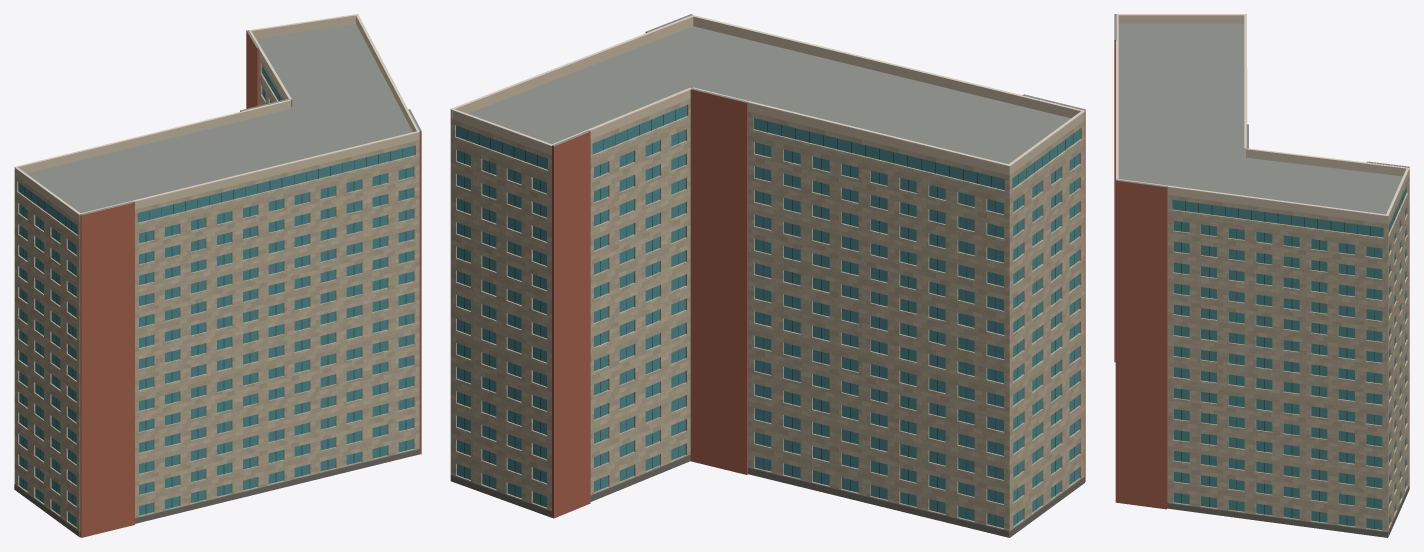
3 views of the same model, side by side, from view 1: azimuth 30°, elevation 25°; view 2: azimuth 150°, elevation 25°; view 3: azimuth 270°, elevation 25° (orthographic). The views are drawn at different scales.
Parts seen in each view (by area): view 1: lakeHall__wall, lakeHall__glass, lakeHall__roof, lakeHall__wall2, lakeHall__parapet, lakeHall__frame, lakeHall__trim, lakeHall__base; view 2: lakeHall__wall, lakeHall__glass, lakeHall__wall2, lakeHall__roof, lakeHall__parapet, lakeHall__frame, lakeHall__base, lakeHall__trim; view 3: lakeHall__wall, lakeHall__roof, lakeHall__glass, lakeHall__wall2, lakeHall__parapet, lakeHall__trim, lakeHall__frame, lakeHall__base.
Part boxes in pixels (x1=…): lakeHall__wall: x1=14, y1=57, x2=419, y2=536; lakeHall__glass: x1=18, y1=66, x2=414, y2=526; lakeHall__roof: x1=26, y1=24, x2=421, y2=214; lakeHall__wall2: x1=80, y1=30, x2=421, y2=537; lakeHall__parapet: x1=14, y1=15, x2=419, y2=222; lakeHall__frame: x1=23, y1=77, x2=406, y2=524; lakeHall__trim: x1=14, y1=14, x2=419, y2=215; lakeHall__base: x1=14, y1=449, x2=419, y2=536; lakeHall__wall: x1=450, y1=99, x2=1084, y2=537; lakeHall__glass: x1=456, y1=105, x2=1080, y2=528; lakeHall__wall2: x1=552, y1=26, x2=1085, y2=518; lakeHall__roof: x1=468, y1=14, x2=1084, y2=537; lakeHall__parapet: x1=450, y1=16, x2=1084, y2=175; lakeHall__frame: x1=464, y1=109, x2=1074, y2=526; lakeHall__base: x1=450, y1=455, x2=1084, y2=537; lakeHall__trim: x1=450, y1=15, x2=1085, y2=166; lakeHall__wall: x1=1167, y1=176, x2=1409, y2=536; lakeHall__roof: x1=1114, y1=14, x2=1409, y2=214; lakeHall__glass: x1=1172, y1=186, x2=1406, y2=529; lakeHall__wall2: x1=1114, y1=40, x2=1409, y2=509; lakeHall__parapet: x1=1117, y1=15, x2=1409, y2=223; lakeHall__trim: x1=1116, y1=14, x2=1409, y2=216; lakeHall__frame: x1=1181, y1=196, x2=1402, y2=528; lakeHall__base: x1=1167, y1=485, x2=1409, y2=537.
Bounding box in the file's own units: 62.15 × 46.27 × 38.43.
8 materials, 1 textured.
